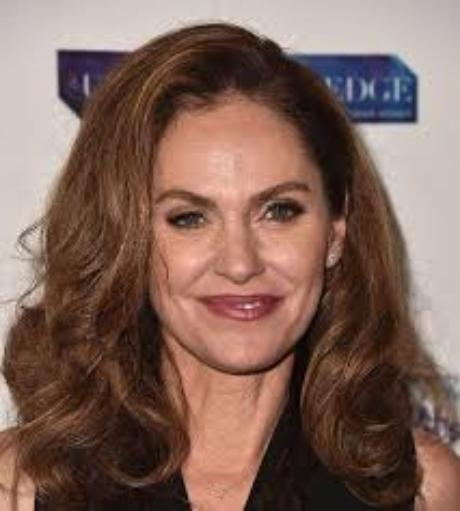left_eye: (259, 202, 309, 228)
left_lip_corner: (274, 291, 293, 310)
right_eye: (161, 209, 213, 234)
right_lip_corner: (190, 293, 211, 312)
